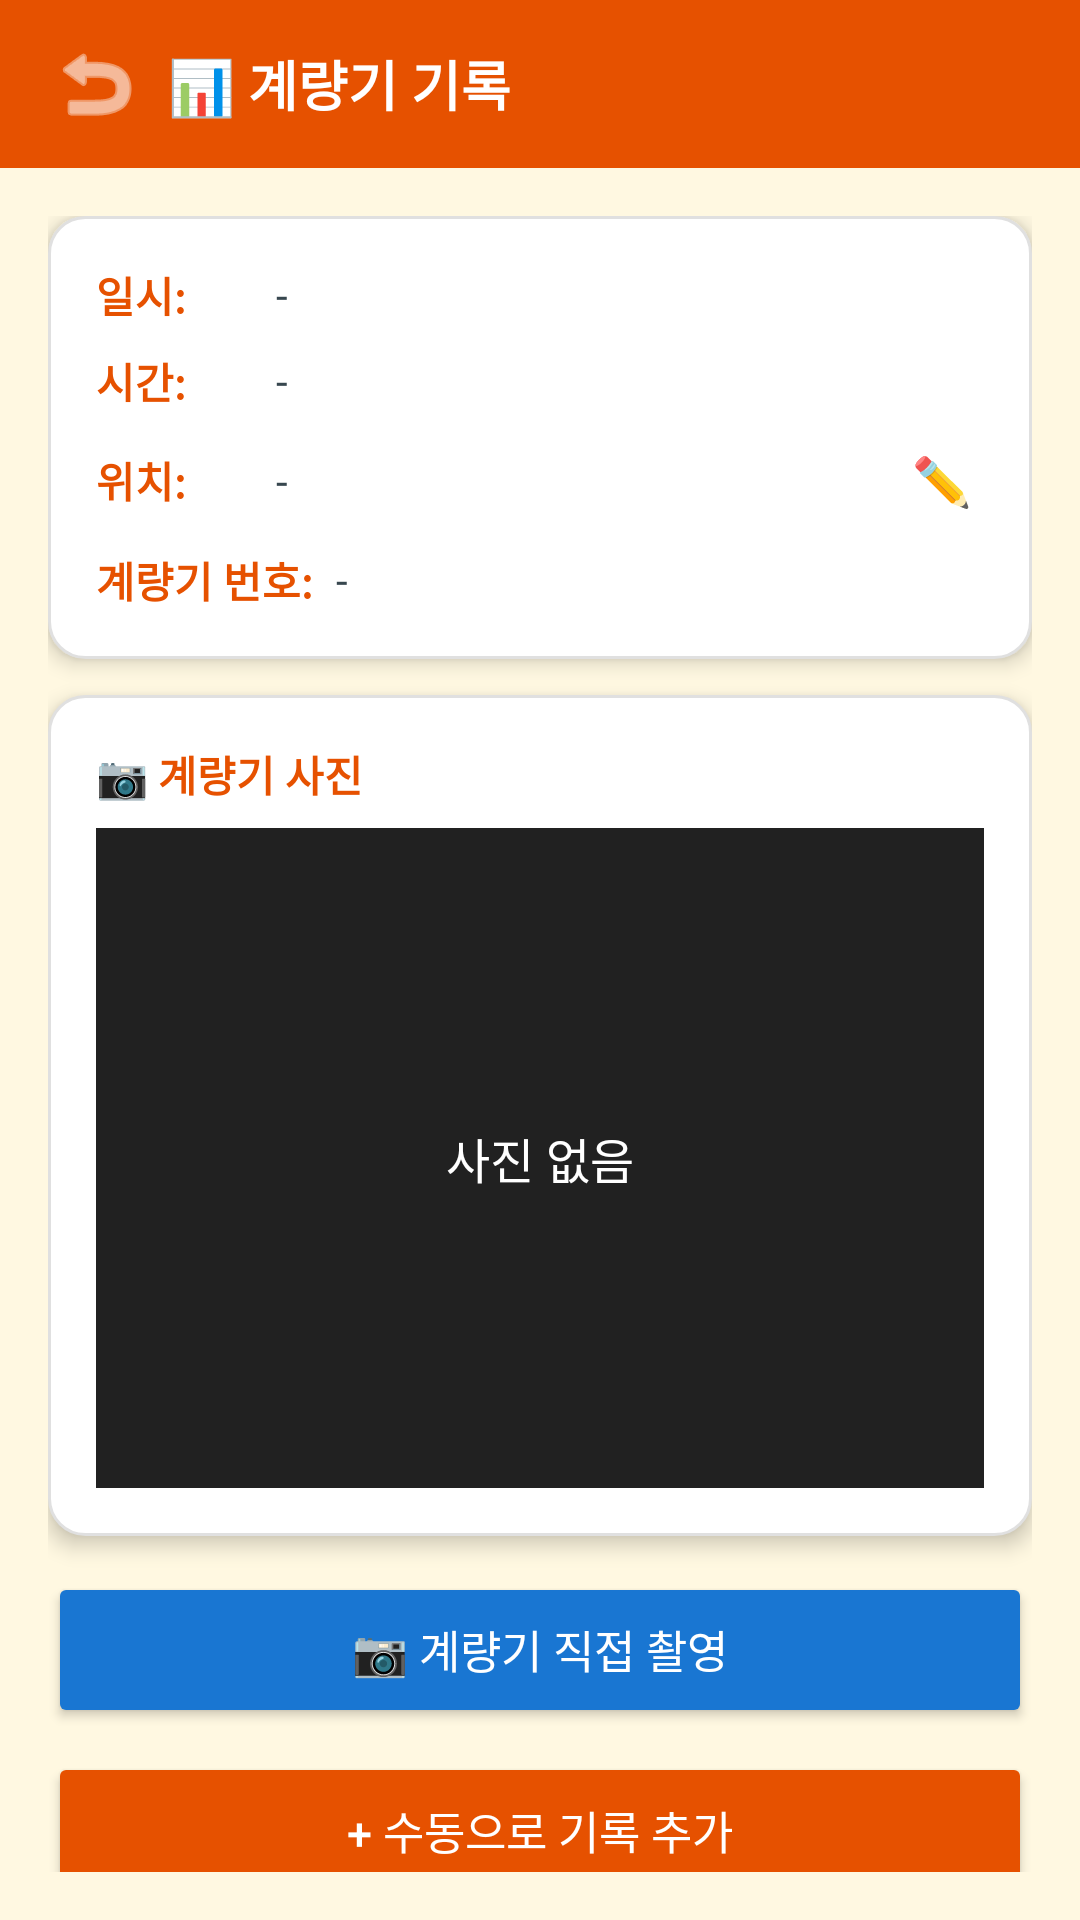

Screen size 1080px x 1920px. Icon name, then its center in pixels as (x=x, y=y):
revert: (x=97, y=84)
